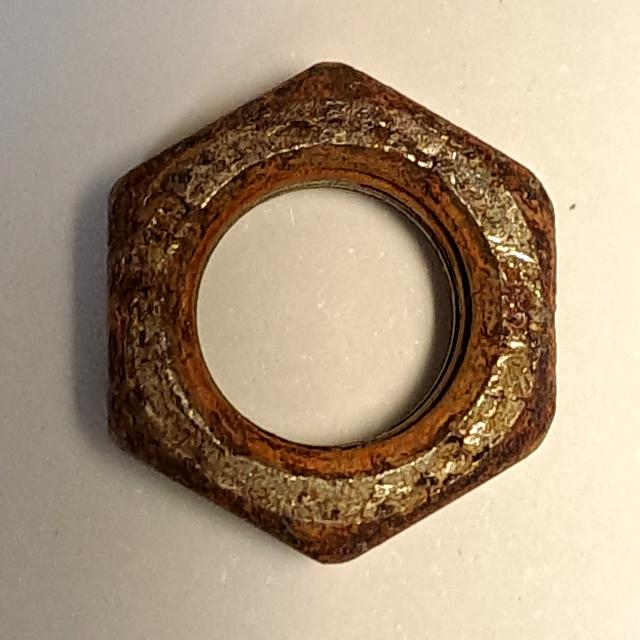Rust: (94, 48, 570, 575)
